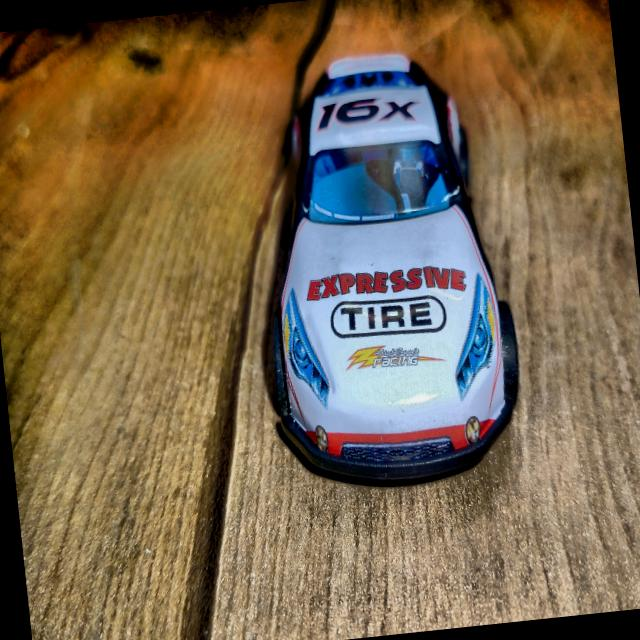Car: (244, 44, 528, 491)
